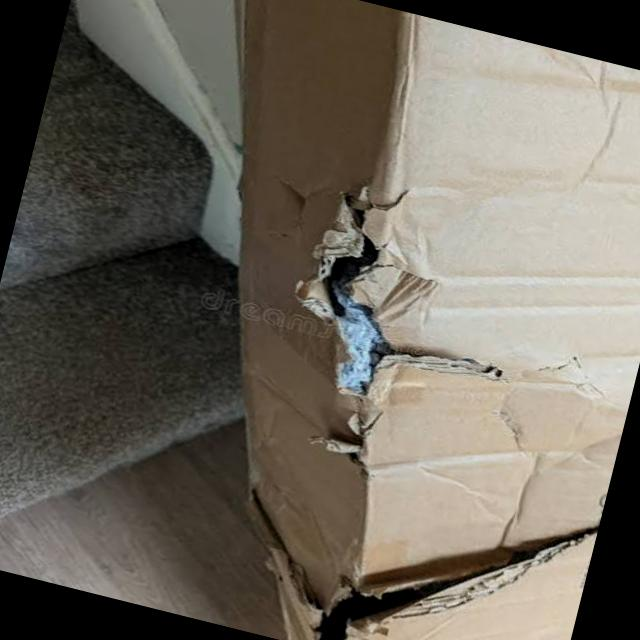carton_box: (67, 0, 640, 640)
package_damage: (159, 131, 640, 640)
